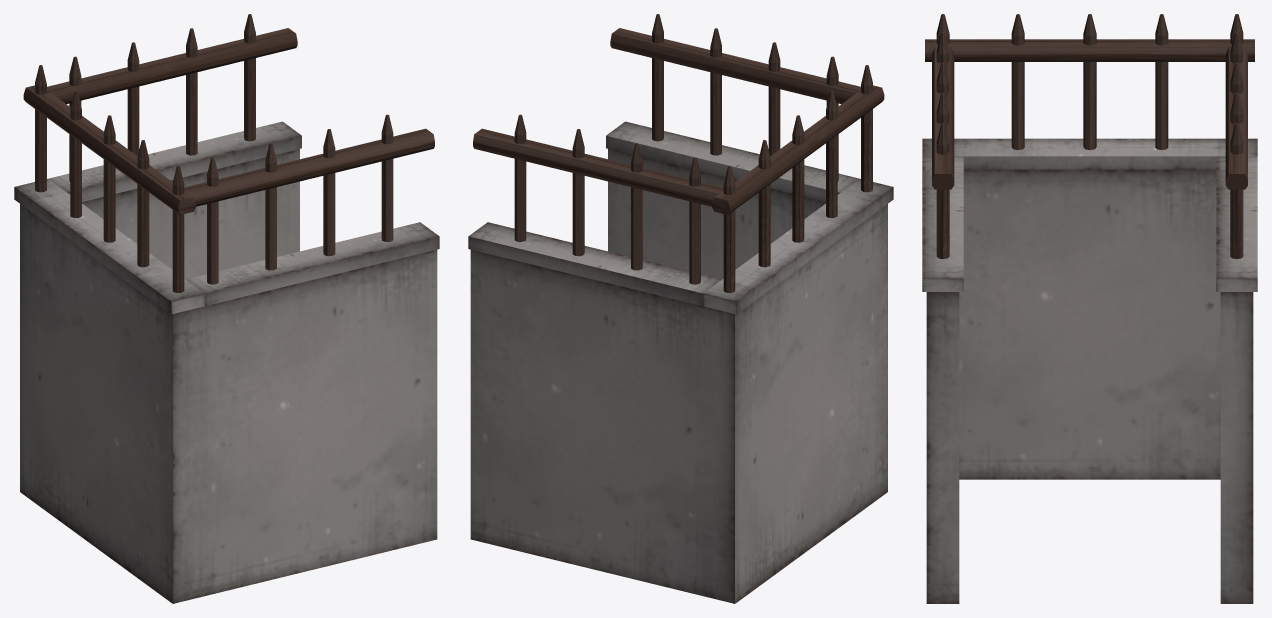
File: Fall_City_1.fbx
The picture shows the model from 3 angles, left to right: view 1: azimuth 30°, elevation 25°; view 2: azimuth 150°, elevation 25°; view 3: azimuth 270°, elevation 25°; orthographic projection. The views are drawn at different scales.
Parts seen in each view (by area): view 1: Cube.120; view 2: Cube.120; view 3: Cube.120.
Part boxes in pixels (x1,y1,x2,y2): Cube.120: (14,14,439,603); Cube.120: (468,14,893,603); Cube.120: (922,14,1257,603).
Size of the model in its own units: 1.01 by 1.55 by 1.03.
